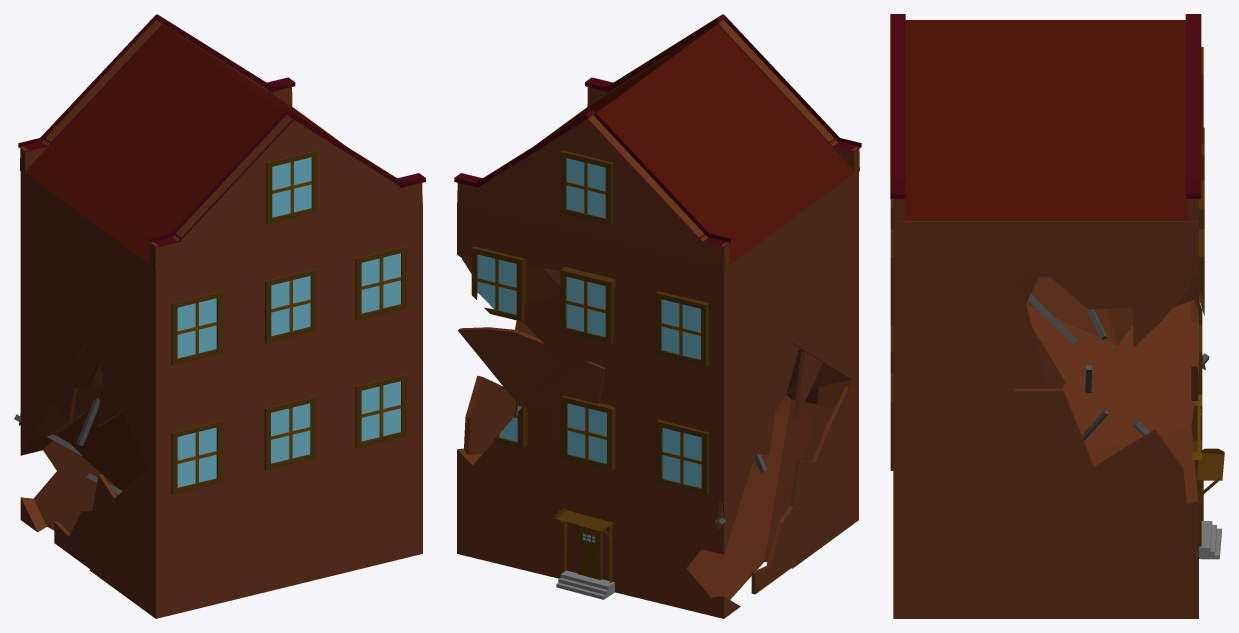
Rendered from prosty2.fbx.
The picture shows the model from 3 angles, left to right: view 1: azimuth 30°, elevation 25°; view 2: azimuth 150°, elevation 25°; view 3: azimuth 270°, elevation 25°; orthographic projection. The views are drawn at different scales.
Parts seen in each view (by area): view 1: Cube.124, Cube.121, Cube.123, Cube.008, Cube.120, Cube.212, Cube.218, Cube.204, Cube.198, Cube.199, Cube.213, Cube.205 (+8 smaller); view 2: Cube.124, Cube.121, Cube.123, Cube.008, Cube.120, Cube.190, Cube.176, Cube.193, Cube.185, Cube.069, Cube.187, Cube.179 (+5 smaller); view 3: Cube.124, Cube.121, Cube.008, Cube.120, Cube.176, Cube.009, Cube.190, Cube.123.
Part boxes in pixels (x1,y1,x2,y2): Cube.124: (20,112,422,618); Cube.121: (23,24,343,264); Cube.123: (20,19,422,269); Cube.008: (19,342,144,568); Cube.120: (18,14,425,247); Cube.212: (271,403,310,463); Cube.218: (272,157,311,217); Cube.204: (361,253,400,313); Cube.198: (177,427,216,487); Cube.199: (177,298,216,358); Cube.213: (271,276,310,335); Cube.205: (361,381,400,441); Cube.124: (457,116,858,618); Cube.121: (535,24,856,264); Cube.123: (457,20,859,269); Cube.008: (458,258,848,594); Cube.120: (454,14,861,247); Cube.190: (471,246,527,448); Cube.176: (554,508,614,599); Cube.193: (662,428,701,487); Cube.185: (661,299,700,359); Cube.069: (566,158,605,218); Cube.187: (567,403,606,463); Cube.179: (566,277,605,336); Cube.124: (893,221,1198,618); Cube.121: (904,20,1187,220); Cube.008: (1014,277,1205,536); Cube.120: (890,14,1201,198); Cube.176: (1196,448,1224,559); Cube.009: (1028,294,1209,440); Cube.190: (1191,229,1204,459); Cube.123: (893,199,1198,223).
Bounding box in the file's own units: 430 × 682 × 387.
Materials: 52 (52 with a texture image).
